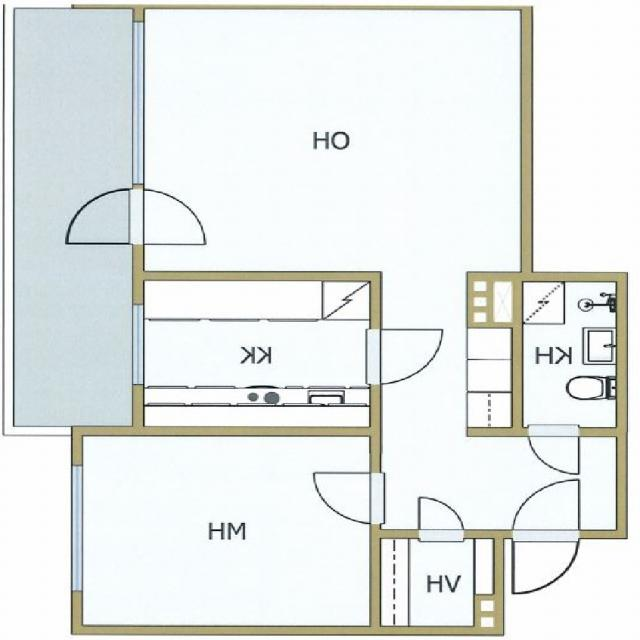door: (65, 189, 144, 245), (132, 189, 211, 245), (513, 474, 579, 539), (370, 330, 448, 385), (513, 530, 579, 594), (309, 474, 381, 524), (529, 428, 579, 479), (419, 492, 465, 539)
